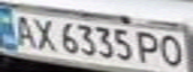3: (72, 23, 96, 57), (93, 25, 115, 61)
5: (112, 26, 139, 62)
6: (54, 20, 78, 55)
A: (6, 12, 39, 48)
O: (157, 33, 187, 69)
P: (133, 29, 163, 65)
X: (27, 16, 60, 52)
